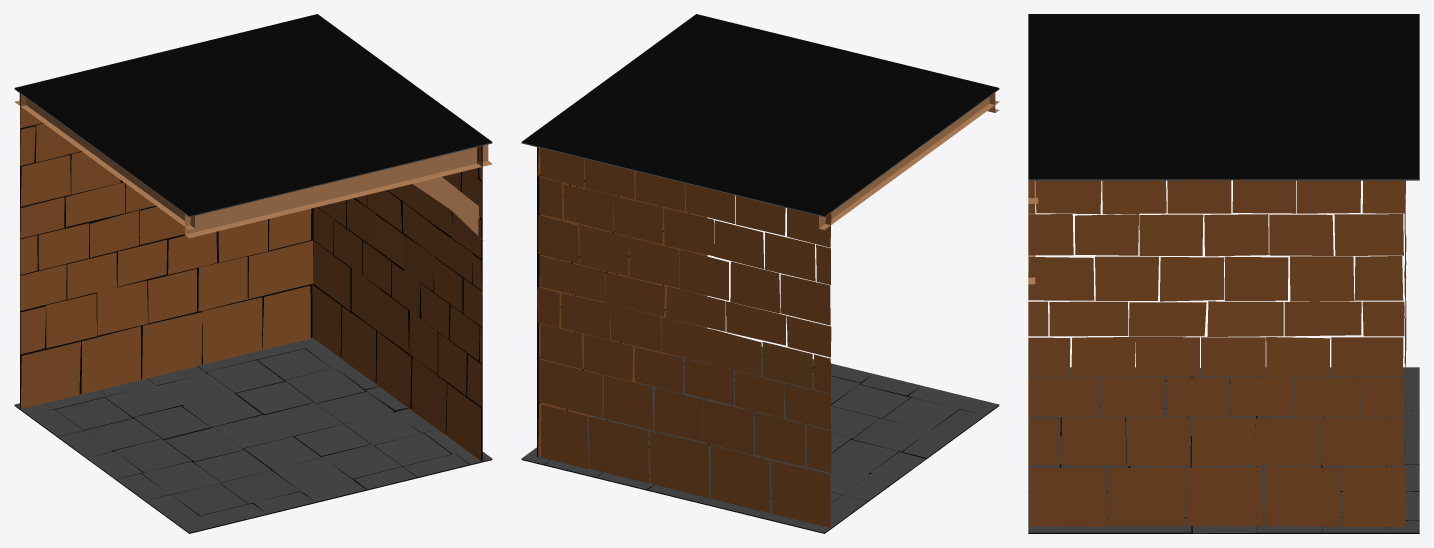
File: wall_3.glb
3 views of the same model, side by side, from view 1: azimuth 30°, elevation 25°; view 2: azimuth 150°, elevation 25°; view 3: azimuth 270°, elevation 25° (orthographic). The views are drawn at different scales.
Parts seen in each view (by area): view 1: wall_3; view 2: wall_3; view 3: wall_3.
Boxes of the visible parts, x1,y1,x2,y2 form: wall_3: [14, 14, 492, 533]; wall_3: [521, 14, 999, 533]; wall_3: [1028, 14, 1419, 533].
Size of the model in its own units: 3 by 3 by 3.
1 material, 1 textured.
